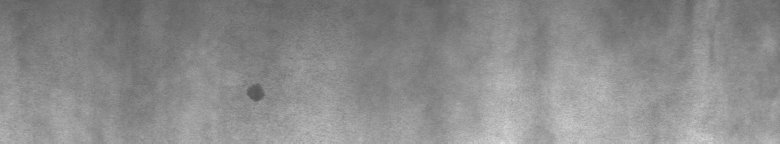fi: (244, 77, 269, 108)
